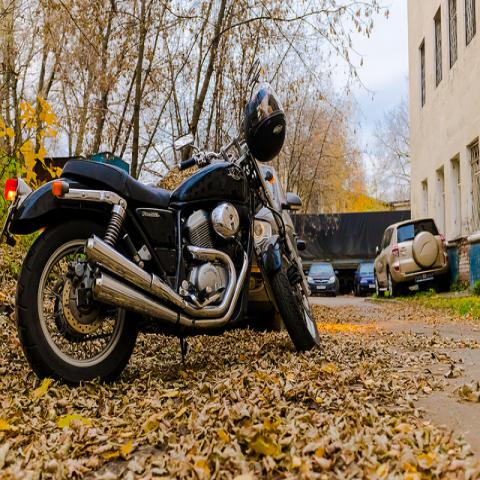car: (374, 217, 450, 298), (250, 257, 286, 332), (305, 261, 339, 299), (352, 260, 374, 294)
motorcycle: (0, 88, 324, 399)
truck: (289, 210, 412, 284)
